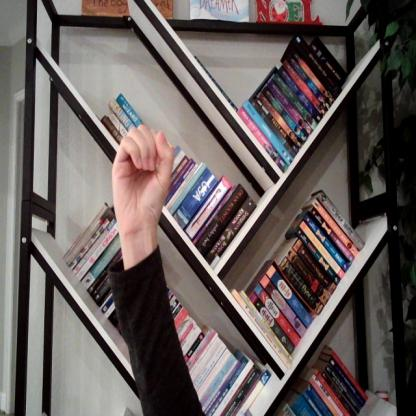zero: (108, 126, 175, 228)
